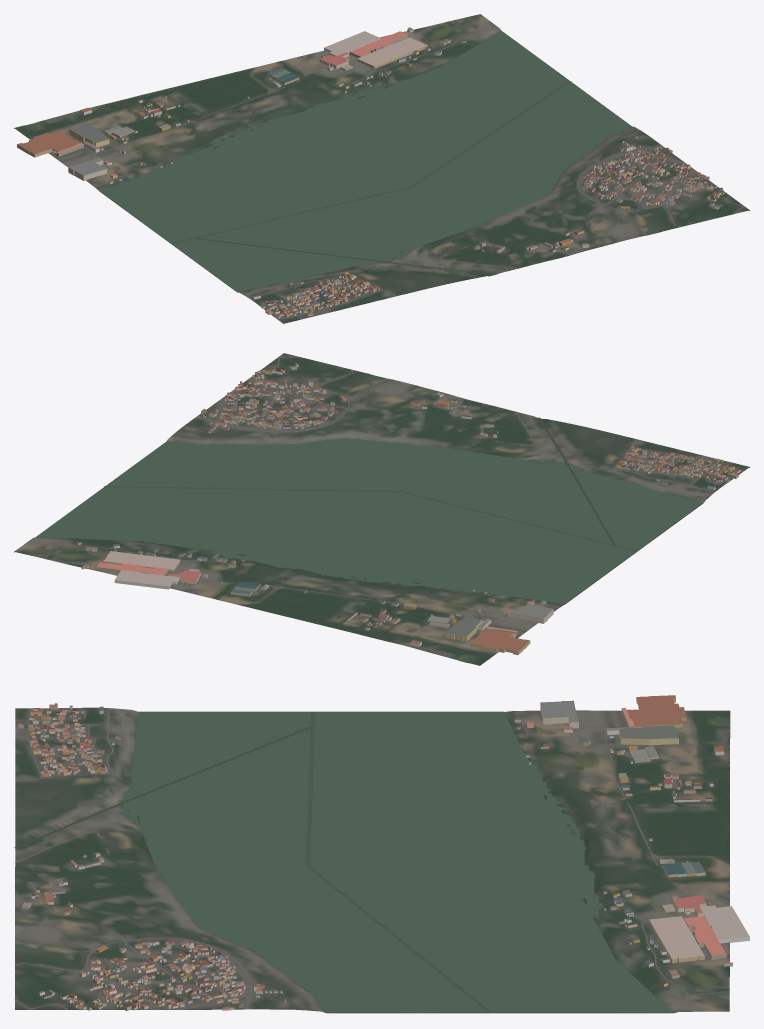
The picture shows the model from 3 angles, top to bottom: view 1: azimuth 30°, elevation 25°; view 2: azimuth 150°, elevation 25°; view 3: azimuth 270°, elevation 25°; orthographic projection. The views are drawn at different scales.
Visible parts, largest first — view 1: water, ground, buildings, roads; view 2: water, ground, buildings, roads; view 3: water, ground, buildings, roads.
Boxes of the visible parts, bbox=[...] form: water: bbox=[26, 30, 657, 291]; ground: bbox=[14, 14, 749, 323]; buildings: bbox=[17, 27, 724, 318]; roads: bbox=[48, 21, 743, 319]; water: bbox=[36, 376, 702, 662]; ground: bbox=[14, 353, 749, 665]; buildings: bbox=[77, 363, 740, 654]; roads: bbox=[28, 356, 743, 653]; water: bbox=[14, 711, 729, 1013]; ground: bbox=[15, 707, 730, 1013]; buildings: bbox=[18, 695, 749, 1010]; roads: bbox=[14, 708, 729, 1011].
Size of the model in its own units: 1456 by 22.31 by 1443.
